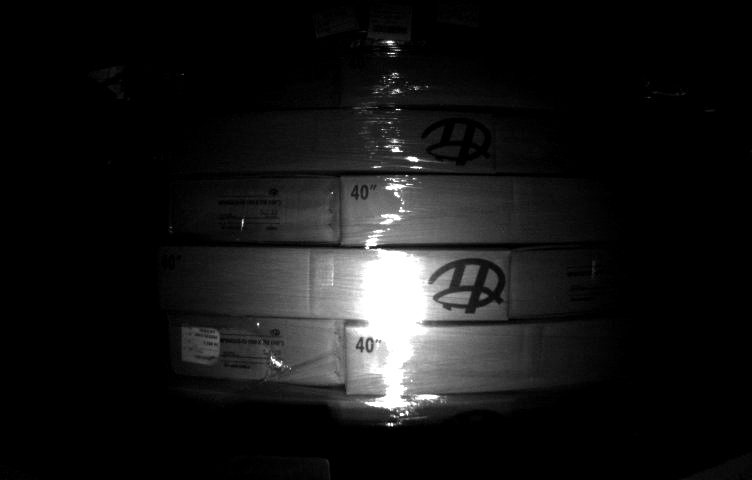True Barcode: (181, 325, 221, 367)
